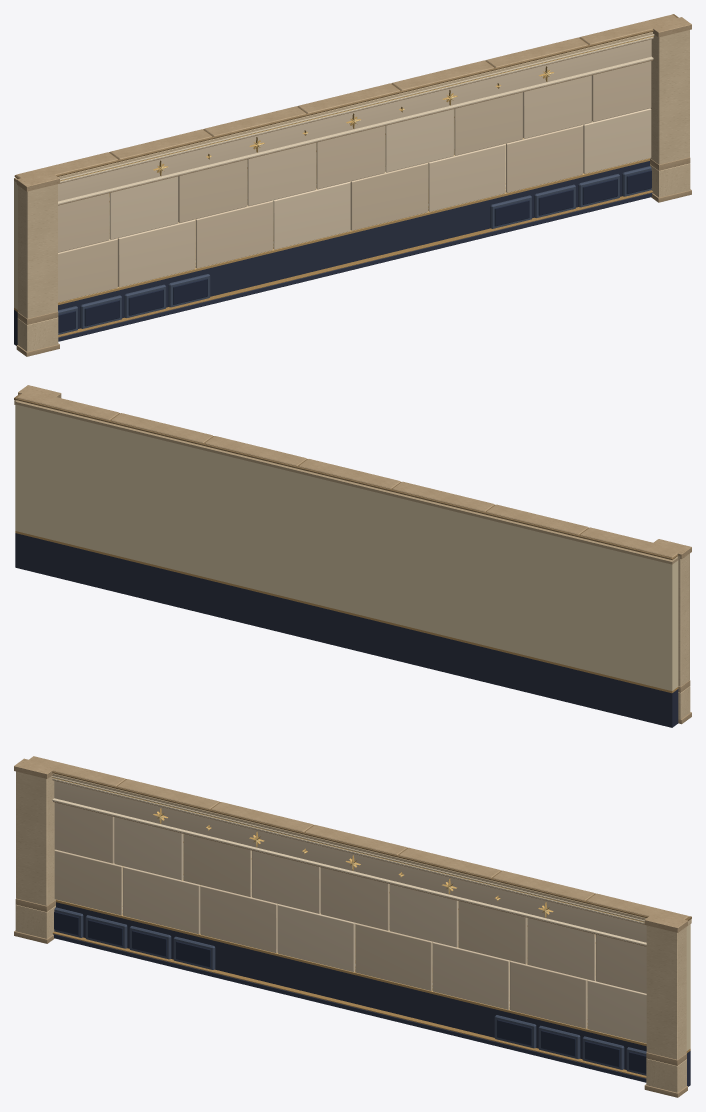
Rendered from rear-wall.glb.
3 renders of one model, top to bottom at view 1: azimuth 30°, elevation 25°; view 2: azimuth 150°, elevation 25°; view 3: azimuth 330°, elevation 25°, orthographic.
Visible parts, largest first — view 1: Wainscot, North frieze recessed bed, Stone pilaster, Stone pilaster.001, North limestone block 1-03, North limestone block 1-02, North limestone block 1-06, North limestone block 1-04, North limestone block 1-05, North limestone block 1-07, North limestone block 1-08, North limestone block 2-02 (+36 smaller); view 2: Plaster, Wainscot, Cap, Cornice continuous bed, BrassRail, Stone pilaster, Cornice top stone.001, Cornice top stone.002, Cornice top stone.006, Cornice top stone.004, Cornice top stone.005, Cornice top stone.003 (+1 smaller); view 3: Wainscot, North frieze recessed bed, Stone pilaster.001, Stone pilaster, North limestone block 1-03, North limestone block 1-04, North limestone block 1-06, North limestone block 1-02, North limestone block 1-05, North limestone block 1-07, North limestone block 1-01, North limestone block 2-05 (+37 smaller).
Boxes of the visible parts, <box> form: Wainscot: <box>14,161,649,345</box>; North frieze recessed bed: <box>58,39,651,201</box>; Stone pilaster: <box>18,184,57,318</box>; Stone pilaster.001: <box>650,30,689,164</box>; North limestone block 1-03: <box>195,200,272,268</box>; North limestone block 1-02: <box>118,219,195,287</box>; North limestone block 1-06: <box>428,144,505,211</box>; North limestone block 1-04: <box>273,182,350,249</box>; North limestone block 1-05: <box>350,163,427,230</box>; North limestone block 1-07: <box>506,125,583,192</box>; North limestone block 1-08: <box>583,108,651,173</box>; North limestone block 2-02: <box>109,176,178,239</box>; Plaster: <box>15,404,678,690</box>; Wainscot: <box>15,533,678,727</box>; Cap: <box>15,400,678,564</box>; Cornice continuous bed: <box>16,398,678,559</box>; BrassRail: <box>15,531,678,693</box>; Stone pilaster: <box>677,553,689,686</box>; Cornice top stone.001: <box>486,504,588,534</box>; Cornice top stone.002: <box>392,481,494,511</box>; Cornice top stone.006: <box>17,390,119,420</box>; Cornice top stone.004: <box>205,436,306,466</box>; Cornice top stone.005: <box>111,413,212,443</box>; Cornice top stone.003: <box>298,459,400,488</box>; Wainscot: <box>56,902,690,1086</box>; North frieze recessed bed: <box>54,781,646,942</box>; Stone pilaster.001: <box>646,925,686,1059</box>; Stone pilaster: <box>16,771,55,905</box>; North limestone block 1-03: <box>200,885,277,952</box>; North limestone block 1-04: <box>277,904,354,971</box>; North limestone block 1-06: <box>432,942,509,1009</box>; North limestone block 1-02: <box>123,866,200,934</box>; North limestone block 1-05: <box>355,923,432,990</box>; North limestone block 1-07: <box>510,961,586,1028</box>; North limestone block 1-01: <box>54,849,122,915</box>; North limestone block 2-05: <box>320,867,389,930</box>.
Size of the model in its own units: 14.66 by 3.59 by 0.6248.
20 materials, 4 textured.
